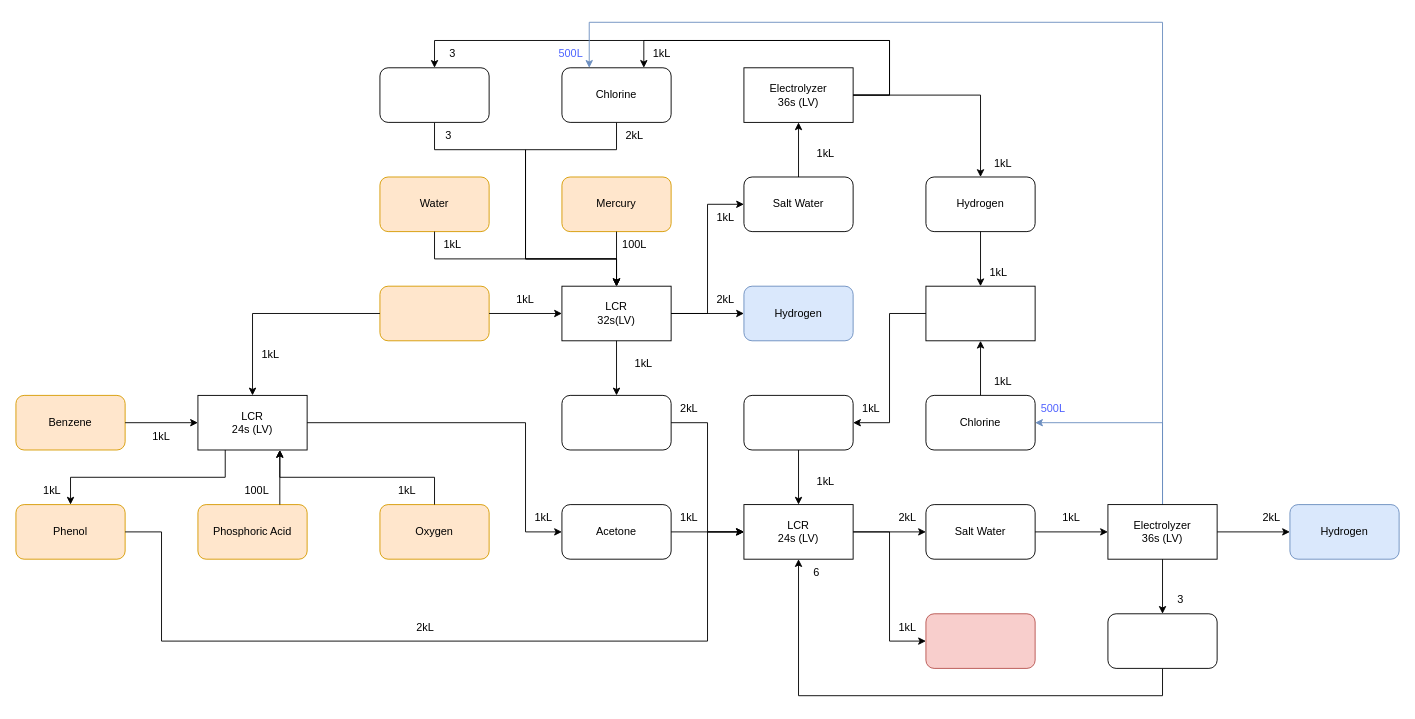
Image size: 1415x719. Some labels were removed from this diagram. The centre of each missing label's shape, as x and y in pixels:
"CR 3s (ULV)" belongs at [980,313].
"Epichlorohydrin" belongs at [616,422].
"Hydrochloric Acid" belongs at [798,422].
"Molten Epoxid" belongs at [980,640].
"Propene" belongs at [434,313].
"Sodium Hydroxide" belongs at [1162,640].
"Sodium Hyrdroxide" belongs at [434,94].
